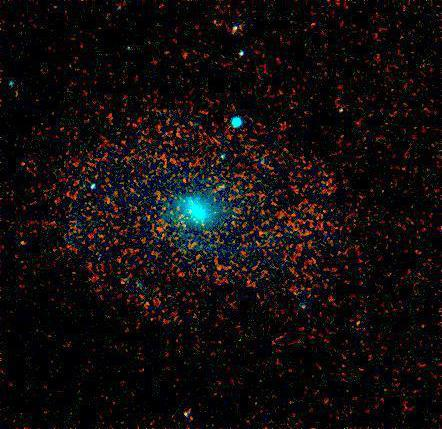star: (6, 230, 36, 260)
